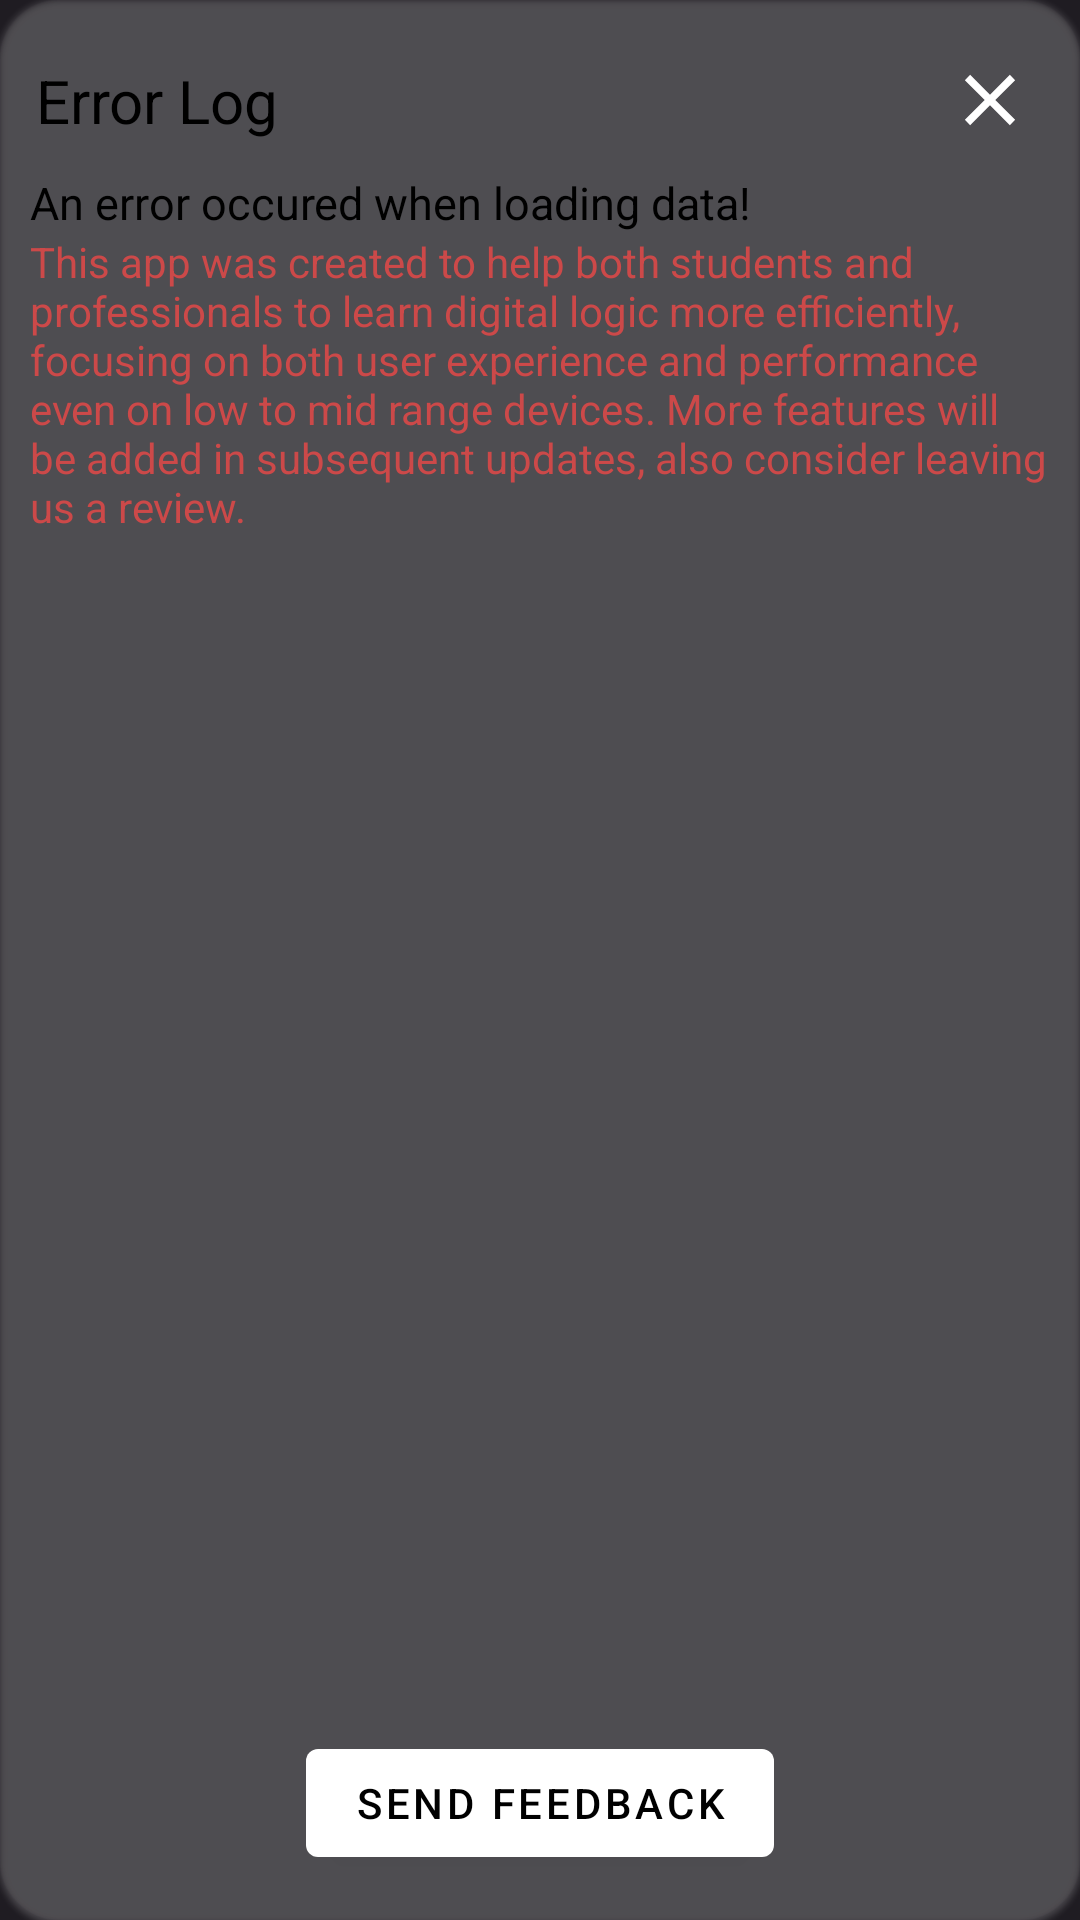

Screen size 1080×1920. Icon name, then its box in pixels as (left=x1, top=y1, right=x2, bottom=y2):
close: (left=965, top=75, right=1015, bottom=125)
